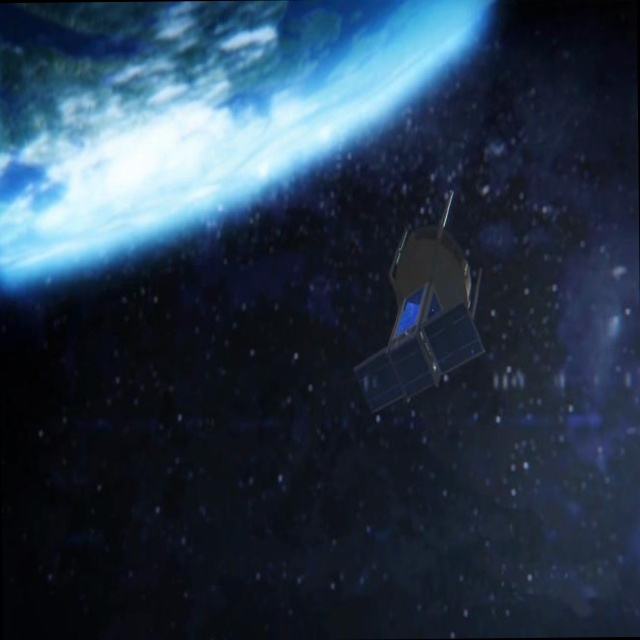satellite: (349, 162, 497, 438)
